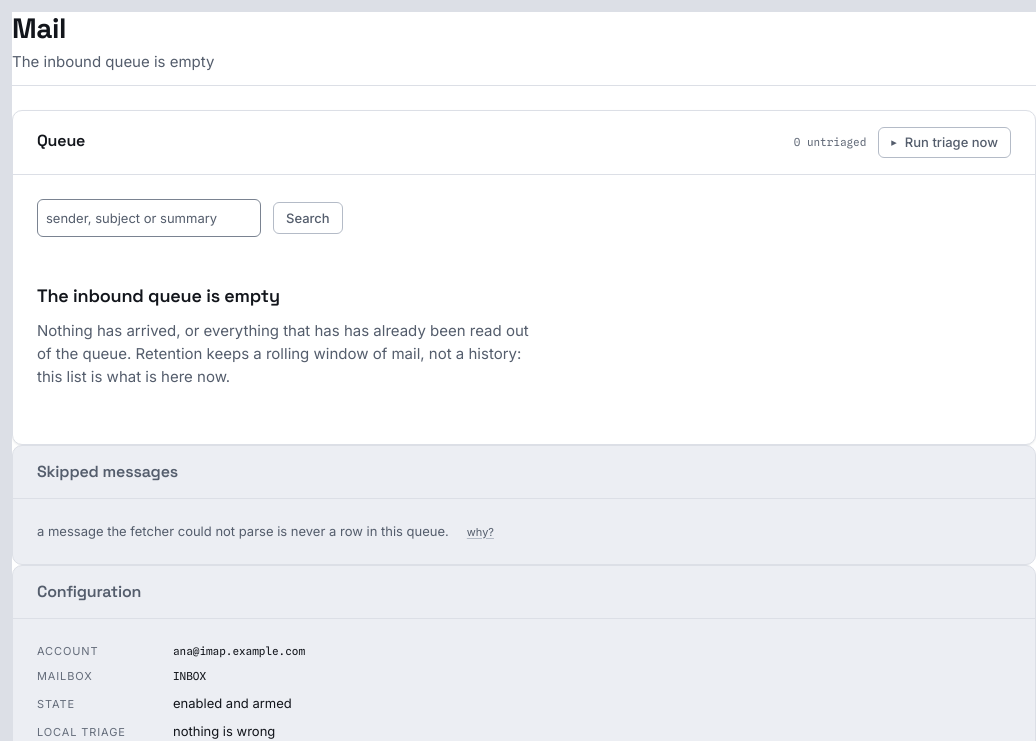
Test: Mail — a triage refusal › renders a triage refusal sentence returned on a 200 as a value, not an error
This screenshot has width=1036, height=741.
Click the button "Run triage now": (945, 142) [878,127,1011,158]
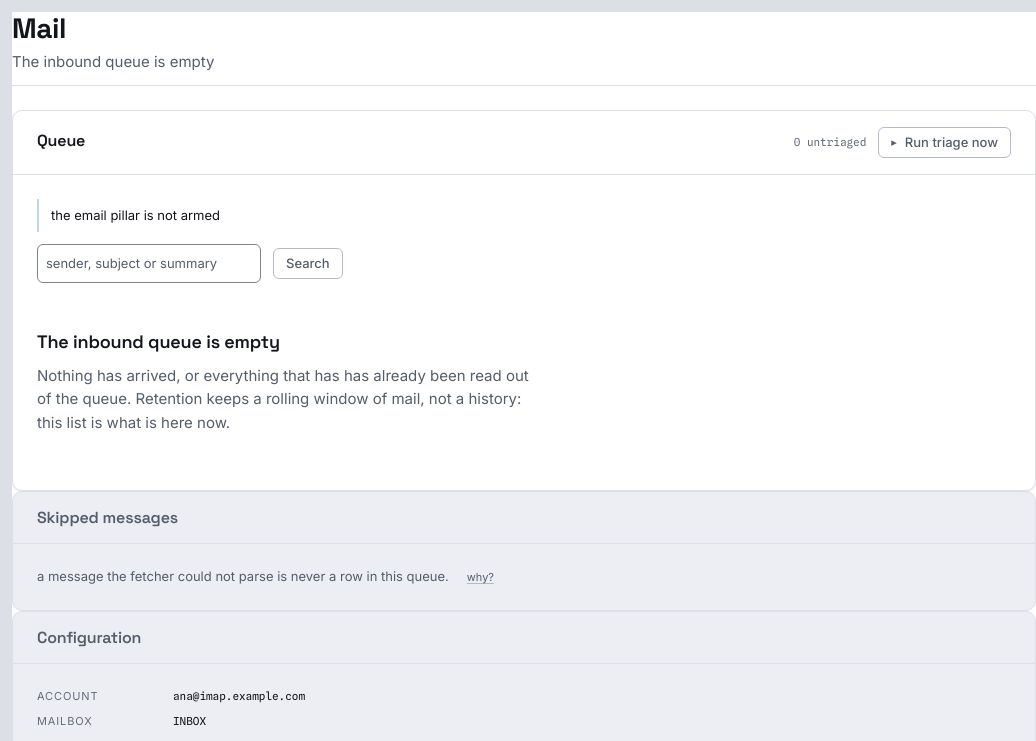
Check: the text "the email pillar is not armed" is shown, box [37,199,1011,232]
